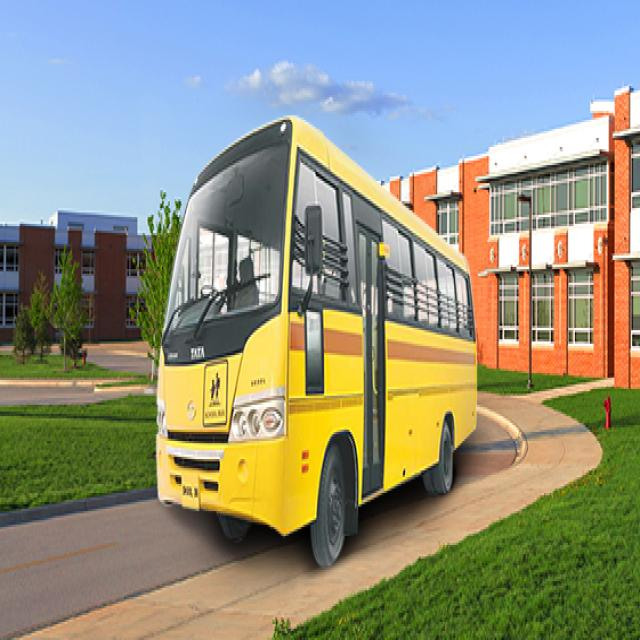bus: (156, 119, 476, 564)
